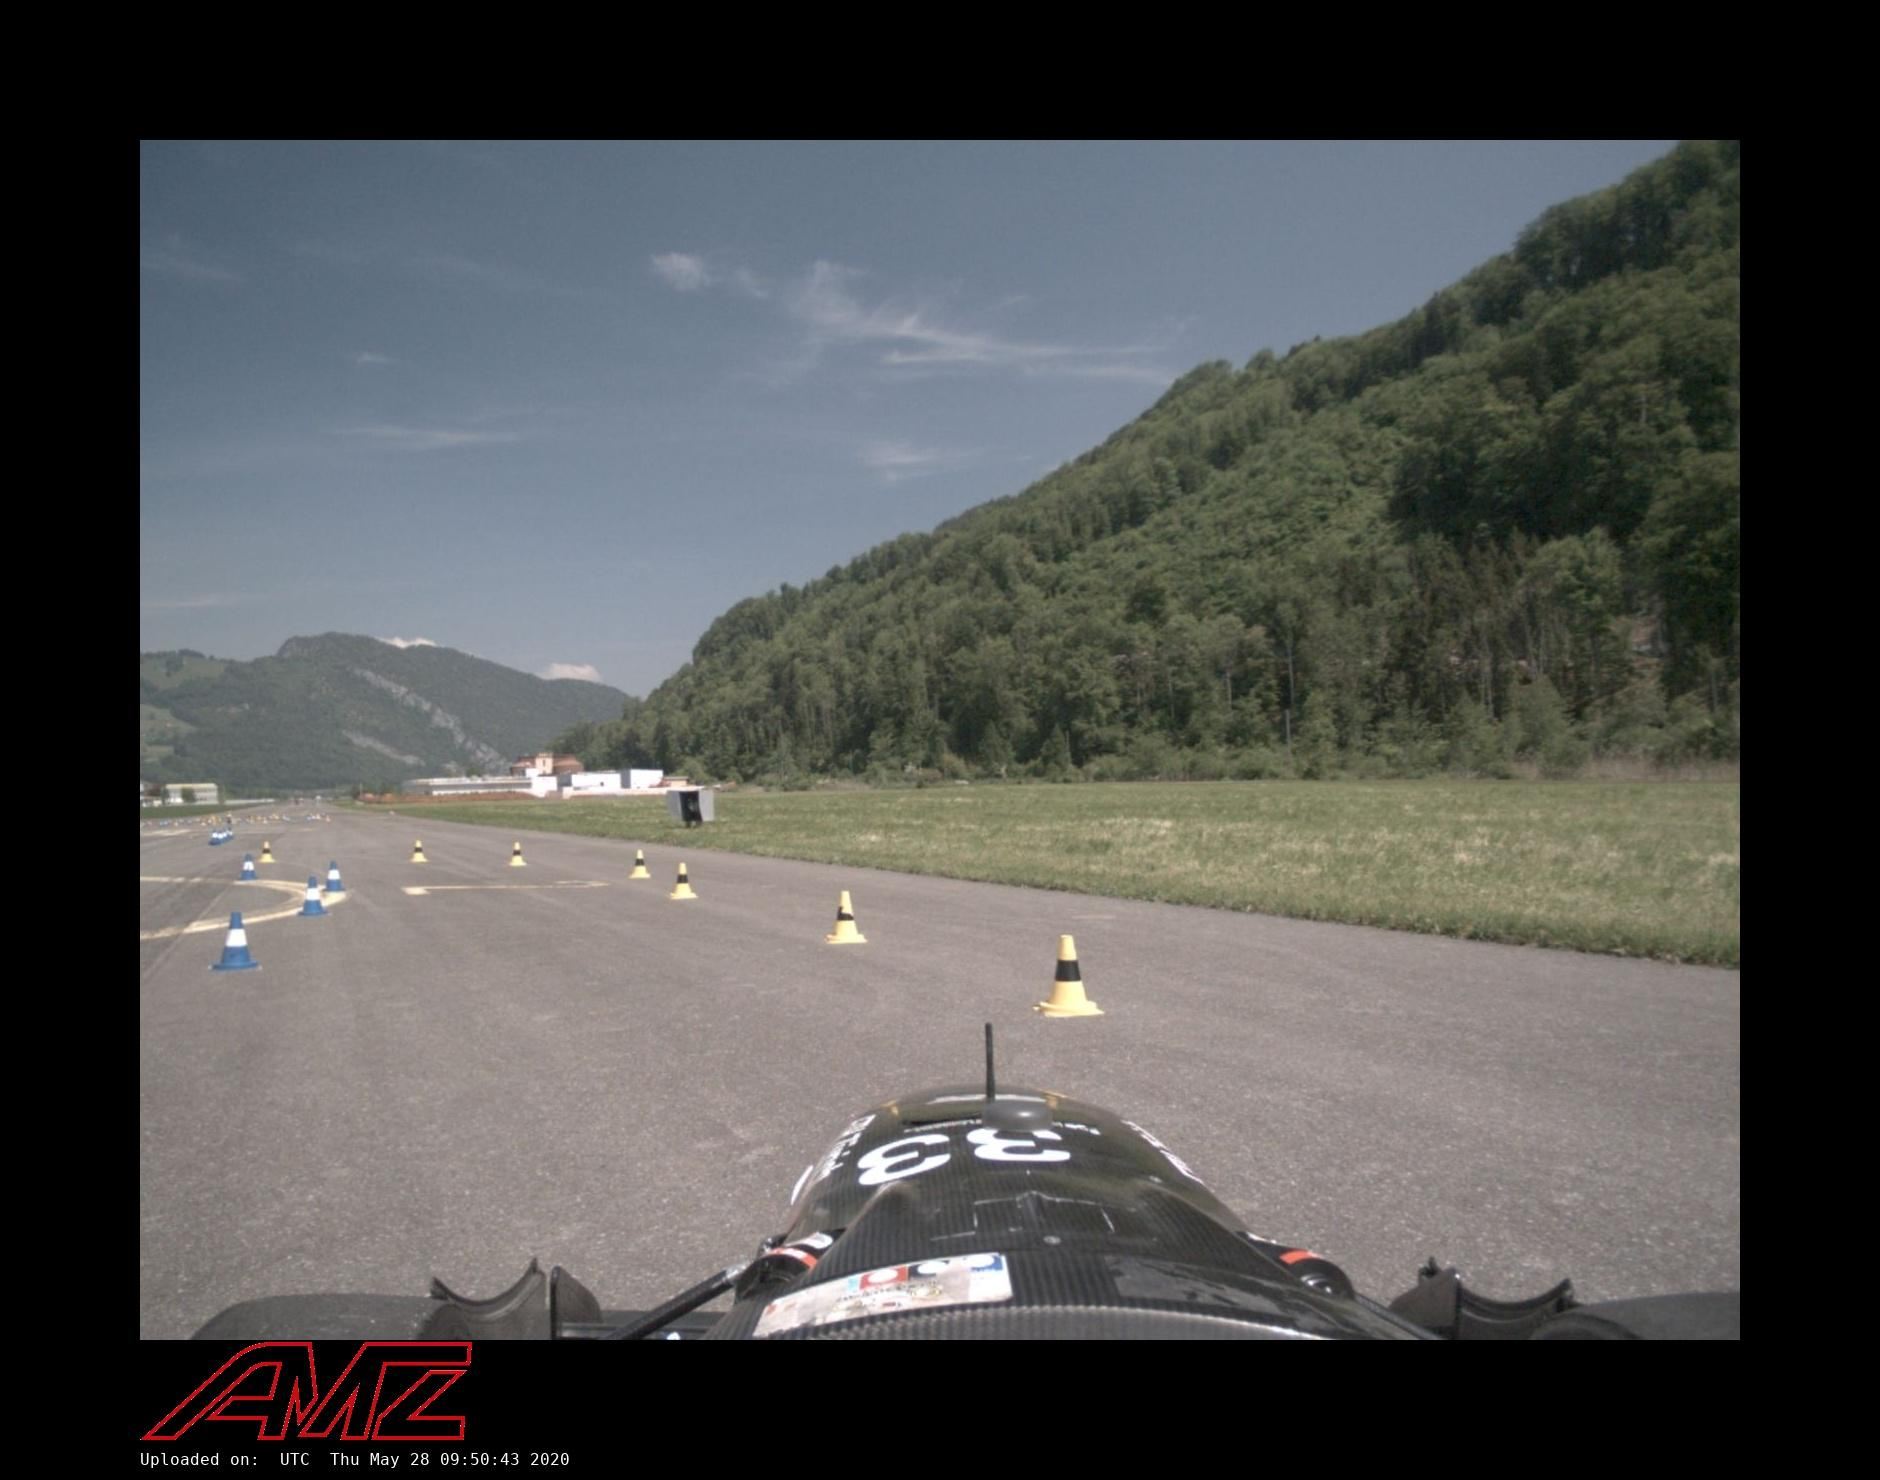blue_cone: (208, 911, 262, 970), (298, 876, 331, 915), (322, 861, 346, 893), (237, 854, 259, 880), (209, 830, 220, 845), (227, 828, 237, 839), (218, 830, 224, 844), (223, 828, 227, 841)
yellow_cone: (1032, 935, 1103, 1018), (824, 891, 868, 944), (670, 864, 697, 899), (629, 850, 652, 879), (508, 842, 526, 867), (410, 839, 427, 864), (259, 841, 276, 864)
